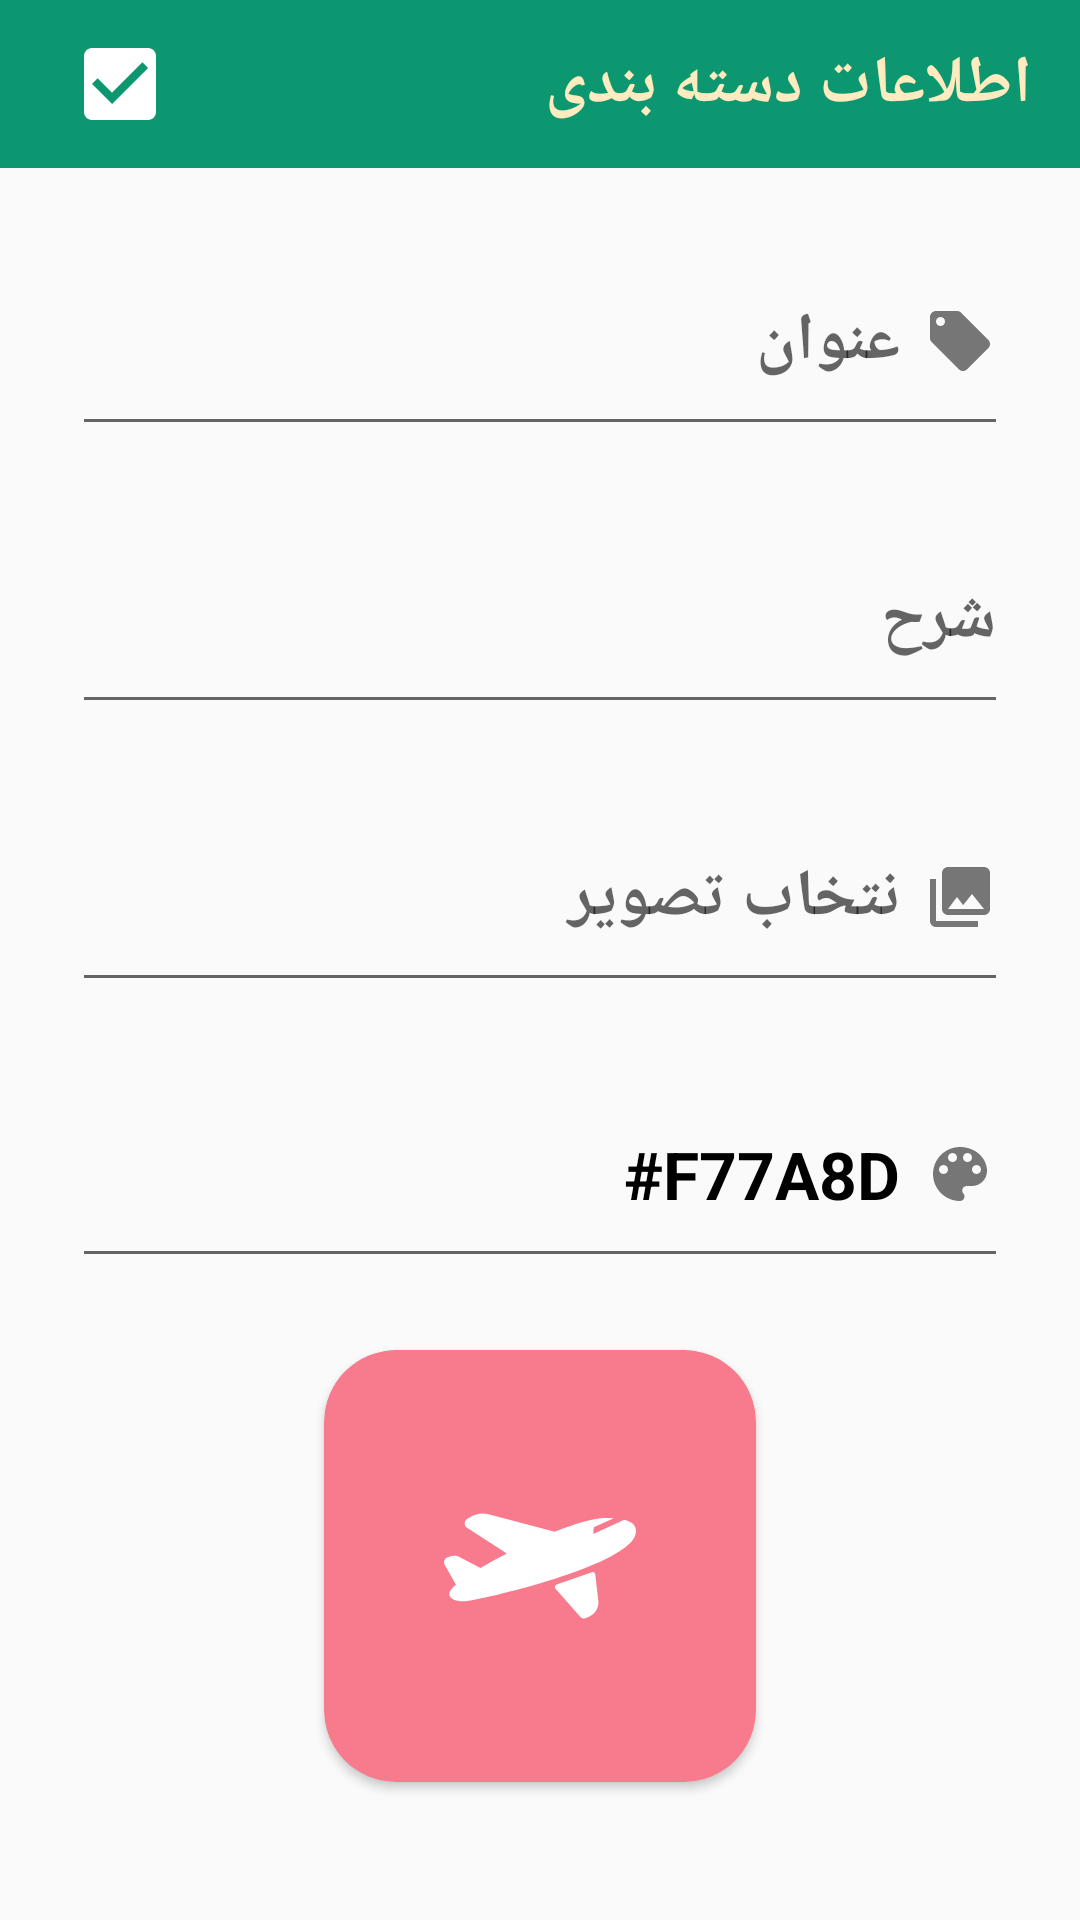

Where icons sit on this 1080×1920 app screen, as box=[x1, y1, x2, y2]:
check box: box=[84, 48, 156, 120]
havapeyma: box=[444, 1513, 636, 1619]
